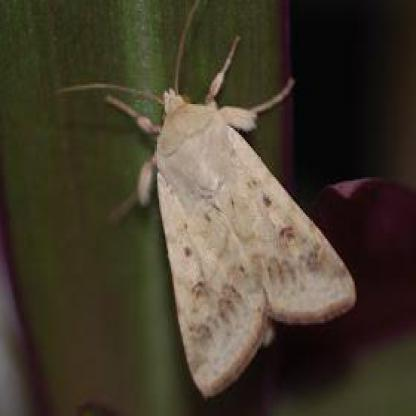helicoverpa: (110, 40, 358, 399)
